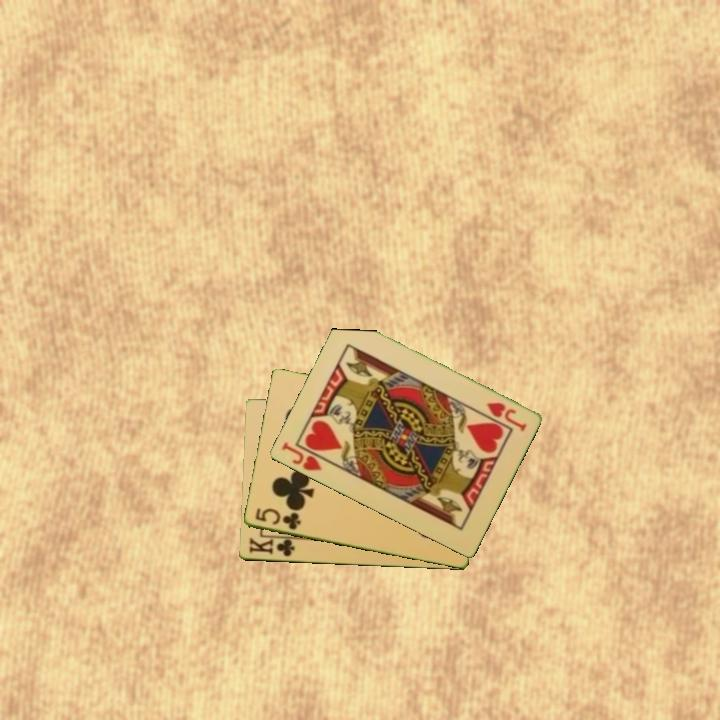5c: (251, 505, 304, 533)
Jh: (278, 438, 333, 474), (483, 399, 529, 434)
Kc: (245, 534, 301, 560)
